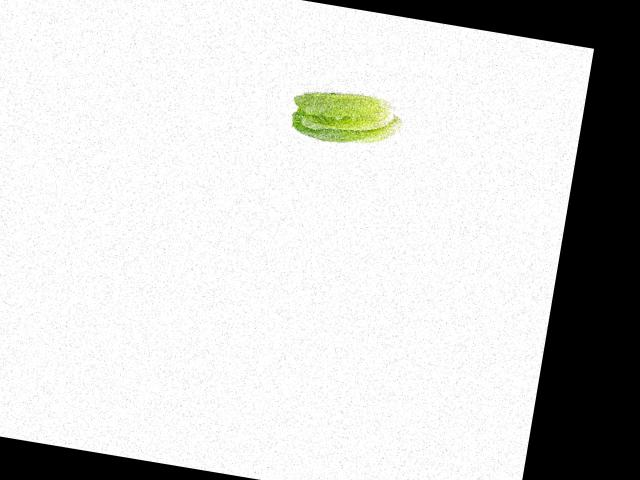lettuce: (286, 77, 406, 152)
